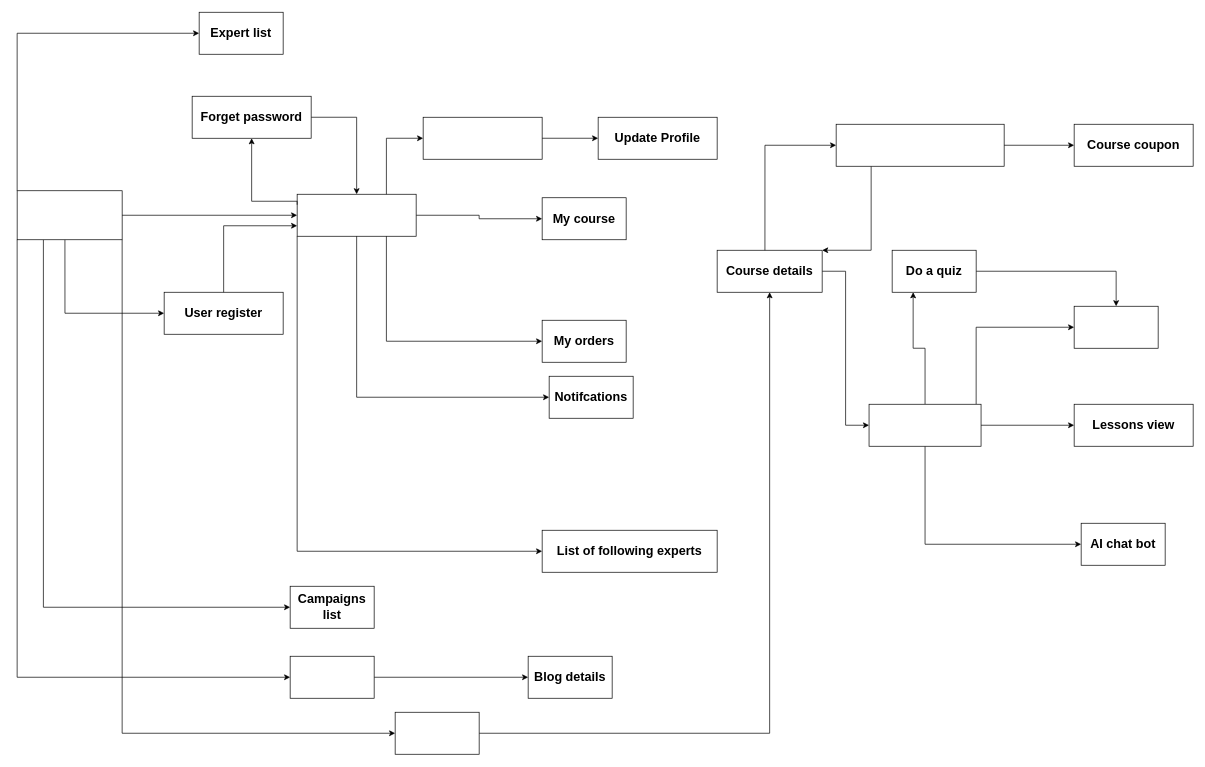
The diagram is 1205 pixels wide and 767 high, and some of its shapes have lost their labels. Each missing label, with the box of its shape:
Blog list: (289, 656, 374, 698)
Course list: (394, 712, 479, 754)
Course purchase: (835, 124, 1004, 166)
Home page: (16, 190, 122, 240)
Learn Course: (868, 404, 981, 446)
Quiz review: (1073, 306, 1158, 348)
User login: (296, 194, 416, 236)
View Profile: (422, 117, 542, 159)
